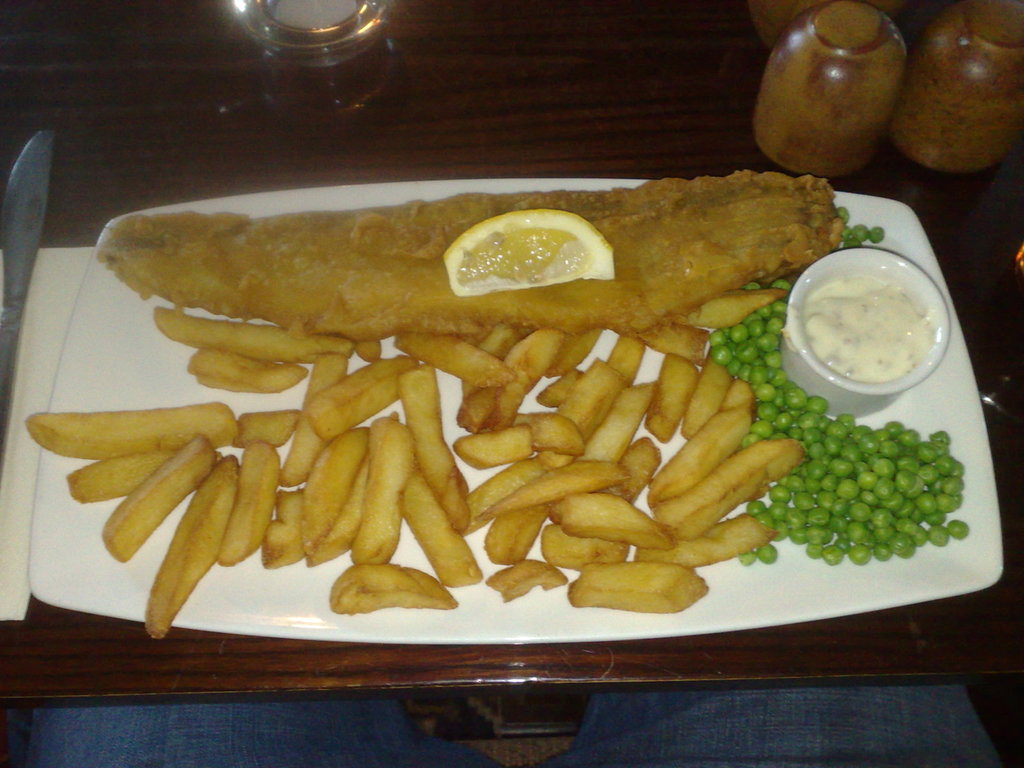French fries: (57, 305, 805, 612)
